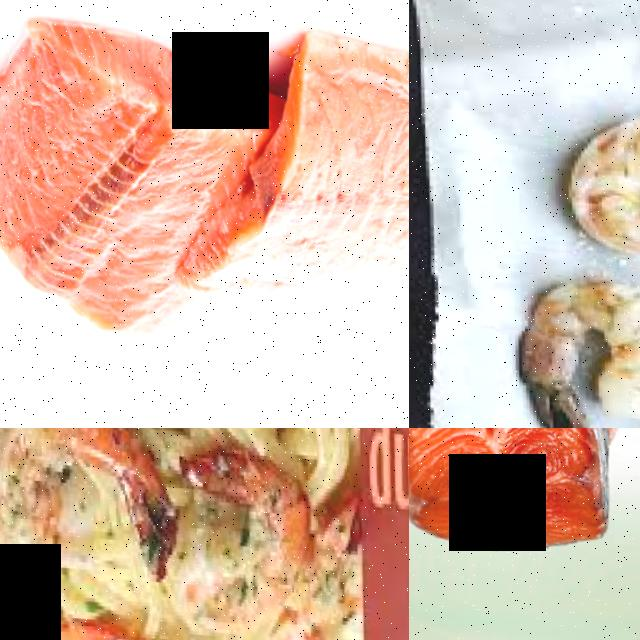salmon: (0, 0, 199, 341), (409, 428, 618, 567)
shrimp: (493, 275, 640, 428), (548, 103, 640, 264)
spinach: (157, 447, 318, 640), (0, 428, 173, 565)
